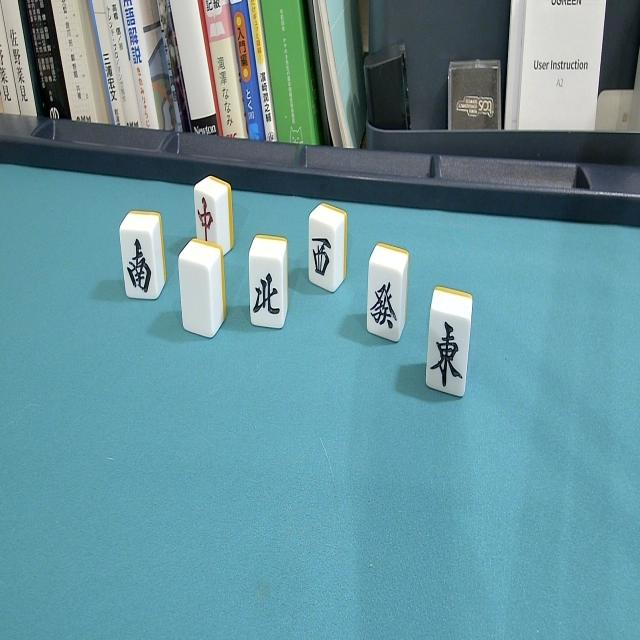chun: (194, 172, 233, 258)
haku: (177, 241, 231, 345)
hatsu: (365, 244, 410, 349)
nan: (119, 210, 169, 307)
pe-: (248, 234, 290, 334)
sya-: (306, 201, 349, 295)
ton: (424, 285, 474, 404)
